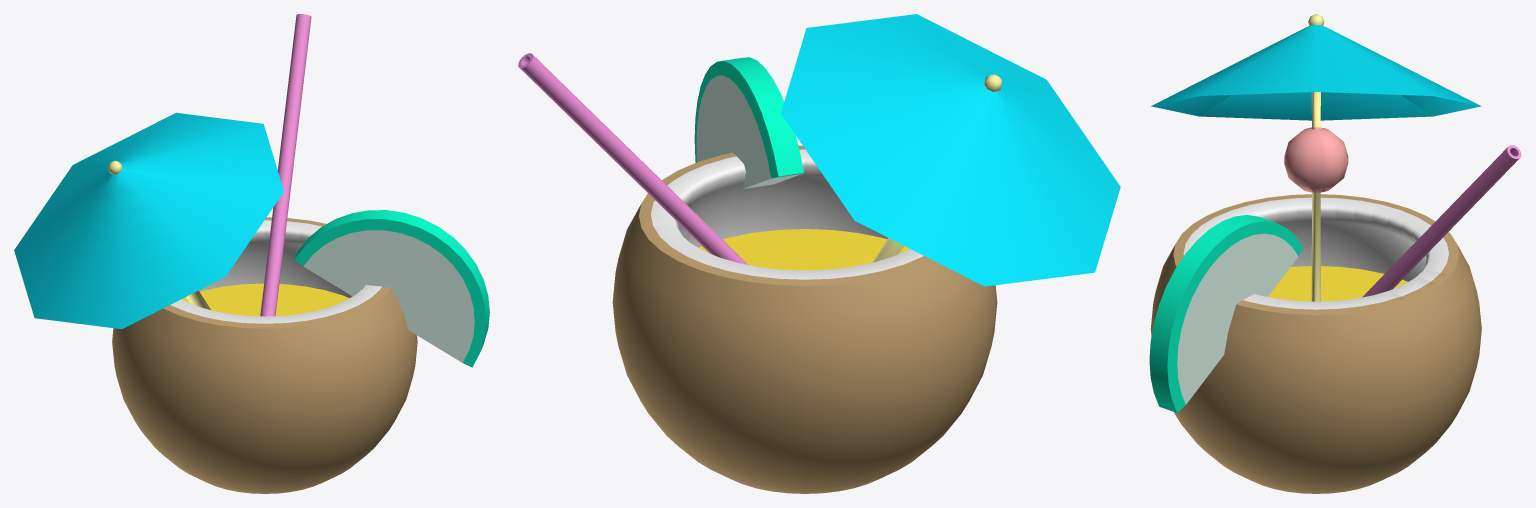
The model's file is Drink.fbx.
3 renders of one model, left to right at view 1: azimuth 30°, elevation 25°; view 2: azimuth 150°, elevation 25°; view 3: azimuth 270°, elevation 25°, orthographic. The views are drawn at different scales.
Parts seen in each view (by area): view 1: Coconut, Umbrella, Lime, Staw_v2; view 2: Coconut, Umbrella, Lime, Staw_v2; view 3: Coconut, Umbrella, Lime, Staw_v2.
Part boxes in pixels (left/top/right/bottom): Coconut: left=112, top=217, right=417, bottom=493; Umbrella: left=14, top=112, right=283, bottom=329; Lime: left=294, top=210, right=489, bottom=367; Staw_v2: left=260, top=14, right=311, bottom=316; Coconut: left=612, top=145, right=997, bottom=493; Umbrella: left=781, top=14, right=1120, bottom=286; Lime: left=694, top=57, right=803, bottom=188; Staw_v2: left=518, top=53, right=747, bottom=264; Coconut: left=1150, top=194, right=1481, bottom=493; Umbrella: left=1151, top=14, right=1481, bottom=301; Lime: left=1149, top=215, right=1302, bottom=412; Staw_v2: left=1362, top=145, right=1521, bottom=297.
Bounding box in the file's own units: 292 × 267 × 225.
